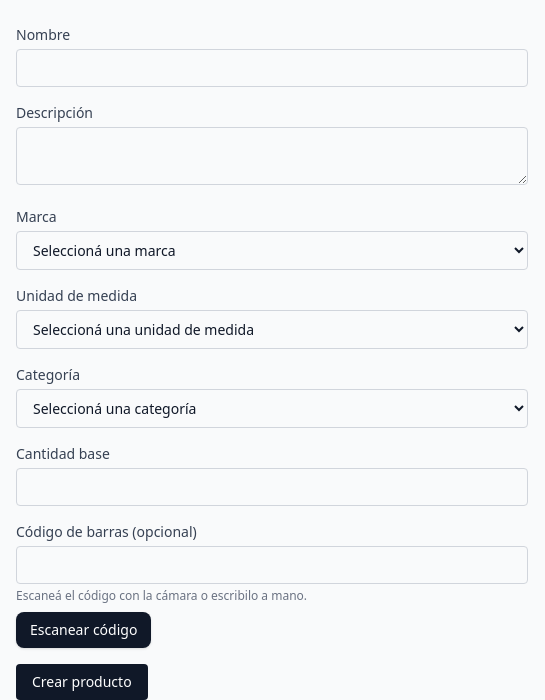
Test: ProductFormPage (PROD-2/PROD-3 · §S2 fila Product form) › campos obligatorios vacíos: errores inline y CERO requests (PROD-3 / idea:198)
(page scrolled)
Click the button "Crear producto" at (82, 682), box [16,664,148,699]
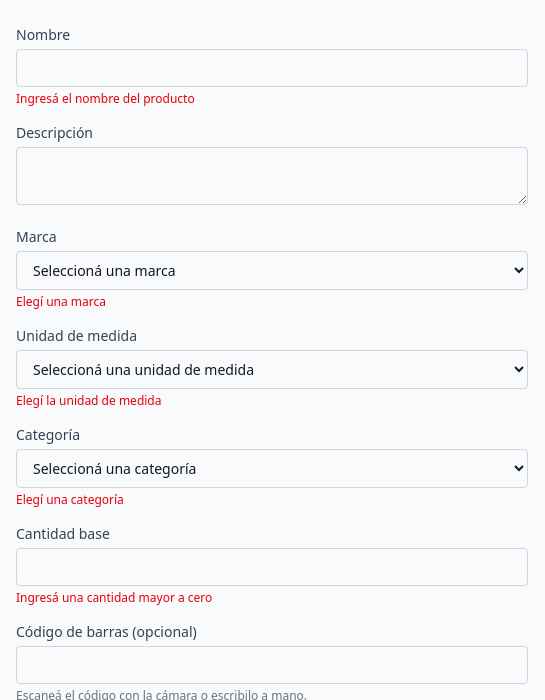
Now the text "Ingresá el nombre del producto" is shown, box [16,90,195,107]
Now the text "Elegí una marca" is shown, box [16,293,106,310]
Now the text "Elegí la unidad de medida" is shown, box [16,392,162,409]
